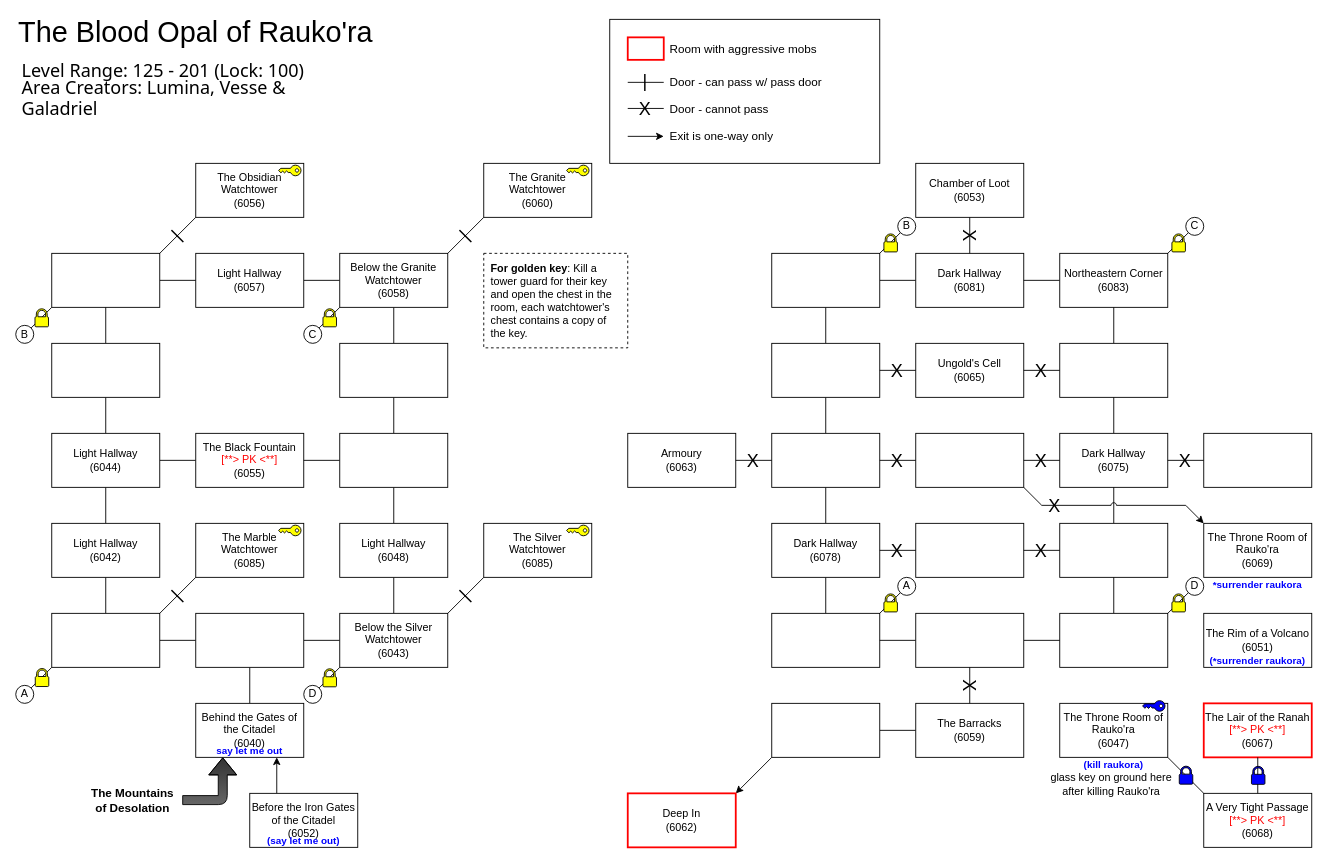
Some shapes in this 1328 by 863 pixel diagram are drawn without their labels. The centre of each missing label's shape, as x and y in pixels:
Below the Marble Watchtower (6086): the point at 105,639
Below the Obsidian Watchtower (6054): the point at 105,279
Dark Hallway (6072): the point at 969,639
Dark Hallway (6073): the point at 1113,549
Dark Hallway (6074): the point at 1113,369
Dark Hallway (6079): the point at 825,459
Dark Hallway (6080): the point at 825,369
Demon's Cell (6066): the point at 969,549
Dragon's Cell (6076): the point at 969,459
Light Hallway (6041): the point at 249,639
Light Hallway (6045): the point at 105,369
Light Hallway (6049): the point at 393,459
Light Hallway (6050): the point at 393,369
Northwestern Corner (6082): the point at 825,279
Southeastern Corner (6070): the point at 1113,639
Southwestern Corner (6077): the point at 825,639
The Outhouse (6061): the point at 825,729
Weaponsmith (6064): the point at 1257,459
